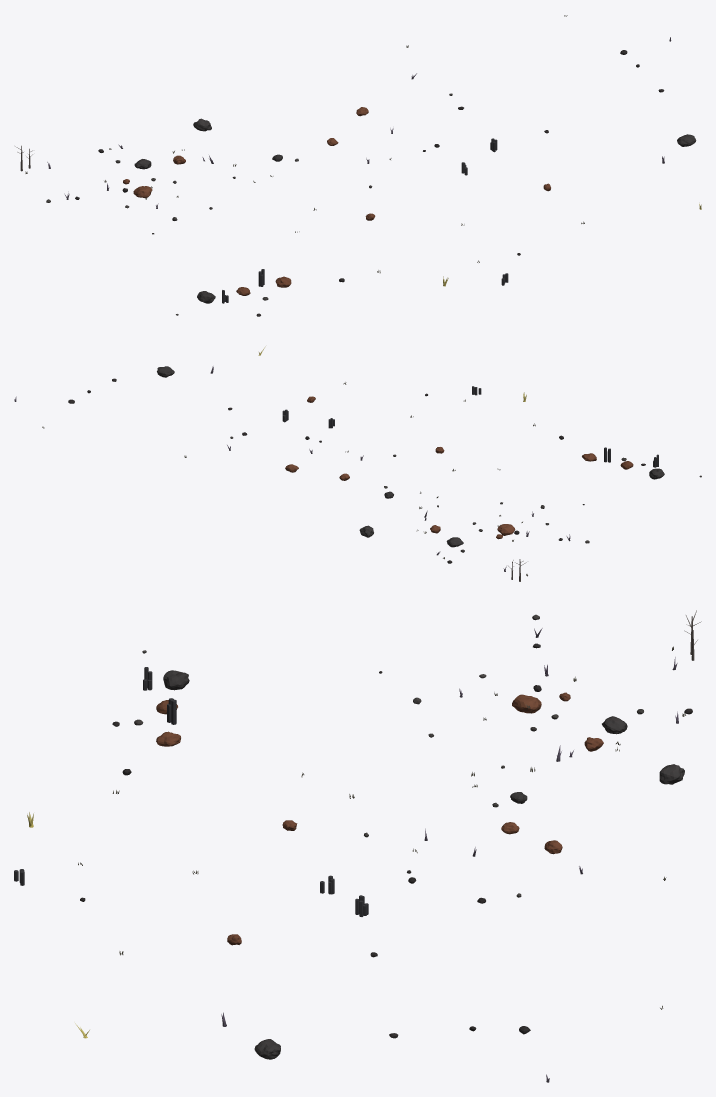
File: ash_land_scatter_c21_31.glb
3 renders of one model, top to bottom at view 1: azimuth 30°, elevation 25°; view 2: azimuth 150°, elevation 25°; view 3: azimuth 270°, elevation 25°, orthographic. The views are drawn at different scales.
Parts seen in each view (by area): view 1: ash_land_scatter_c21_31; view 2: ash_land_scatter_c21_31; view 3: ash_land_scatter_c21_31.
Boxes of the visible parts, box(x1,y1,x2,y2) form: ash_land_scatter_c21_31: box(15, 15, 701, 316); ash_land_scatter_c21_31: box(14, 346, 701, 581); ash_land_scatter_c21_31: box(14, 610, 701, 1082).
Size of the model in its own units: 211 by 19.87 by 129.
